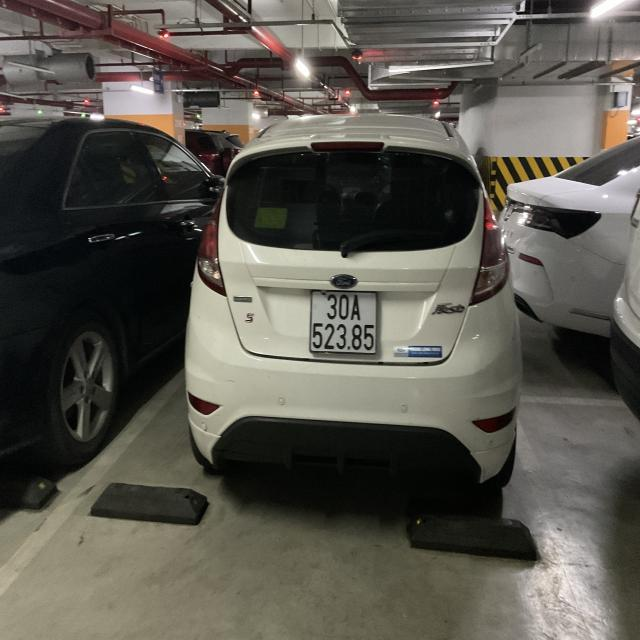license: (308, 289, 378, 354)
